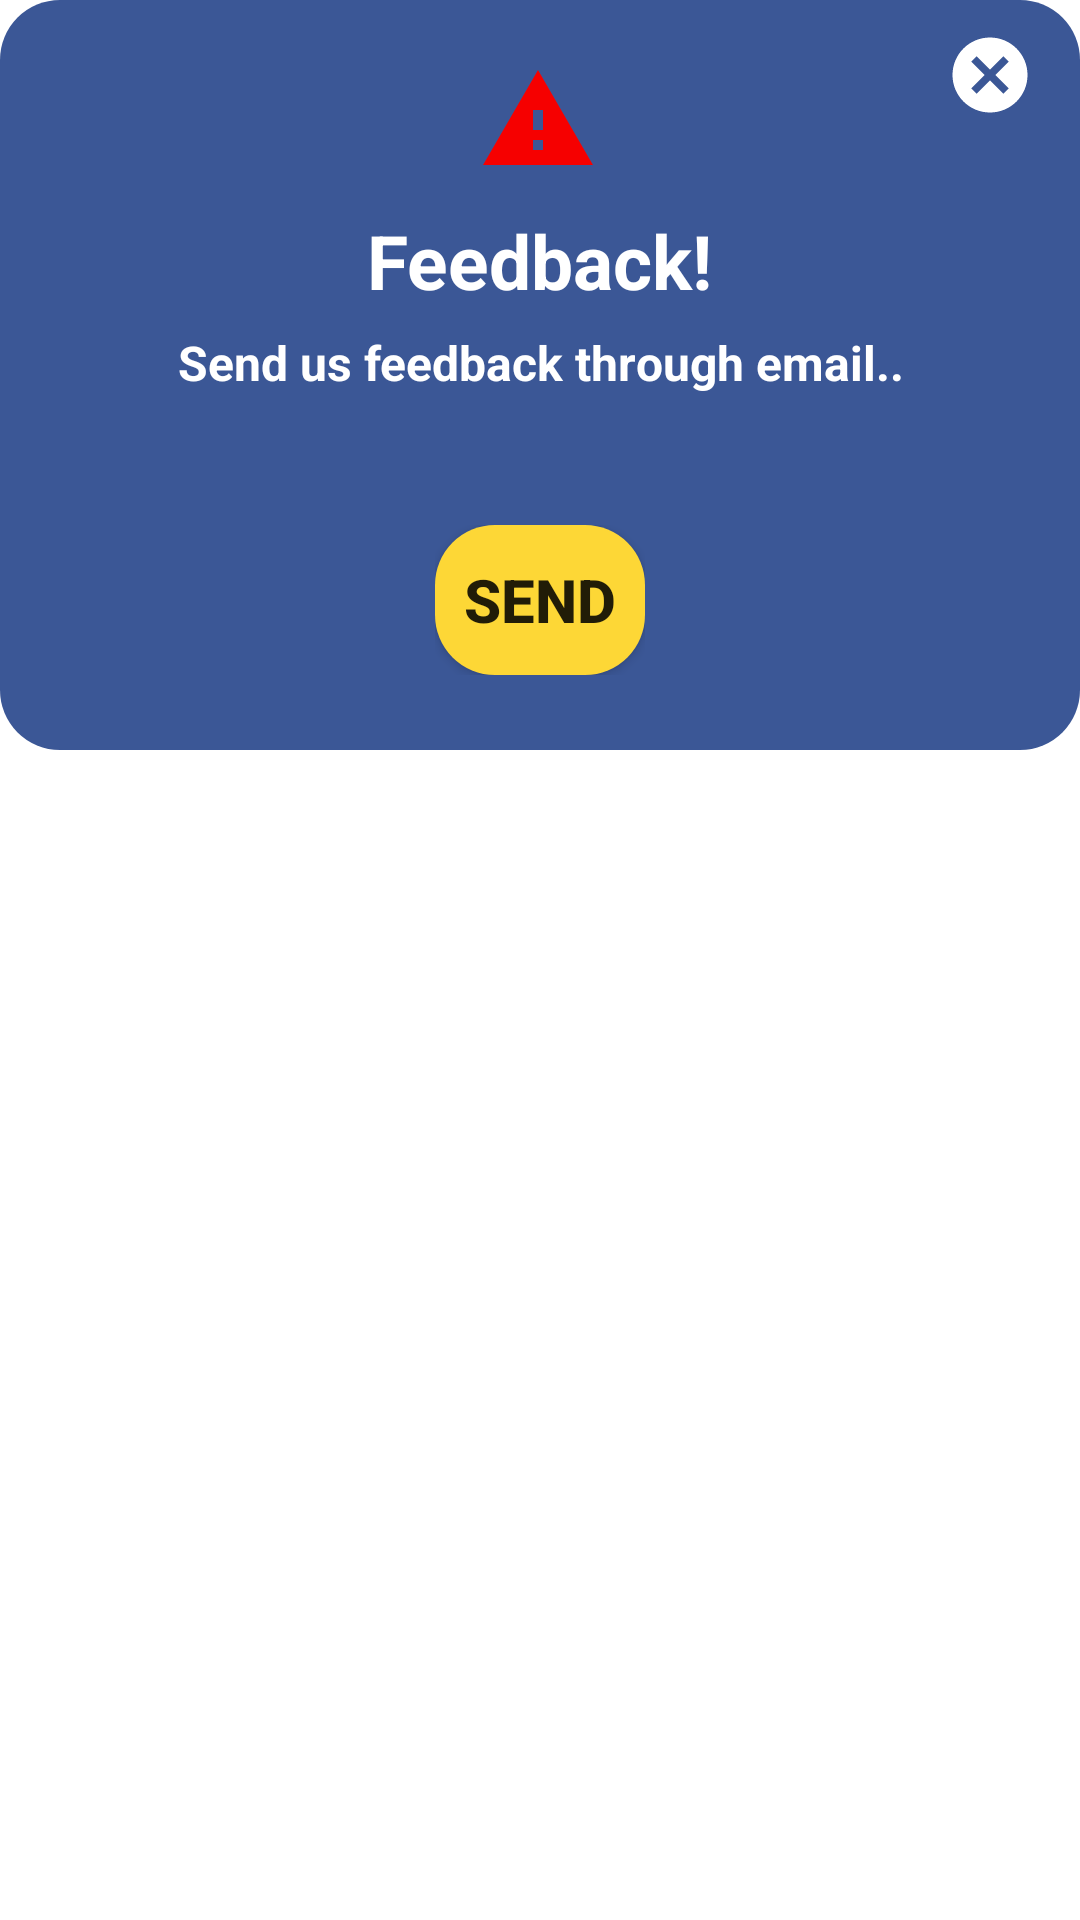

Icon click points for this 1080px x 1920px phone screenshot, format (x,y):
cancelicon: (990,75)
warningicon: (538,117)
